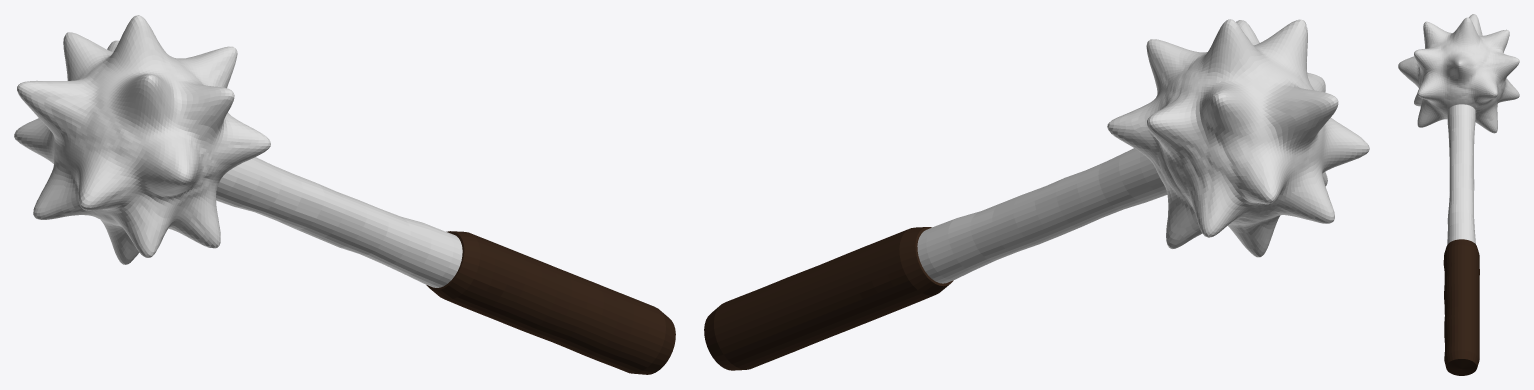
File: ZBrush Morningstar.fbx
3 renders of one model, left to right at view 1: azimuth 30°, elevation 25°; view 2: azimuth 150°, elevation 25°; view 3: azimuth 270°, elevation 25°, orthographic. The views are drawn at different scales.
Parts seen in each view (by area): view 1: Merged_Mace:Group31636, Merged_Mace:Group59572, Merged_Mace:Group40136; view 2: Merged_Mace:Group31636, Merged_Mace:Group59572, Merged_Mace:Group40136; view 3: Merged_Mace:Group31636, Merged_Mace:Group59572, Merged_Mace:Group40136.
Boxes of the visible parts, bbox=[...] form: Merged_Mace:Group31636: bbox=[14, 15, 270, 264]; Merged_Mace:Group59572: bbox=[426, 231, 675, 374]; Merged_Mace:Group40136: bbox=[216, 157, 462, 287]; Merged_Mace:Group31636: bbox=[1107, 19, 1369, 257]; Merged_Mace:Group59572: bbox=[704, 227, 953, 370]; Merged_Mace:Group40136: bbox=[917, 148, 1167, 283]; Merged_Mace:Group31636: bbox=[1398, 14, 1519, 133]; Merged_Mace:Group59572: bbox=[1443, 239, 1479, 375]; Merged_Mace:Group40136: bbox=[1447, 104, 1475, 244].
Bounding box in the file's own units: 8.25 × 5.85 × 2.72.
